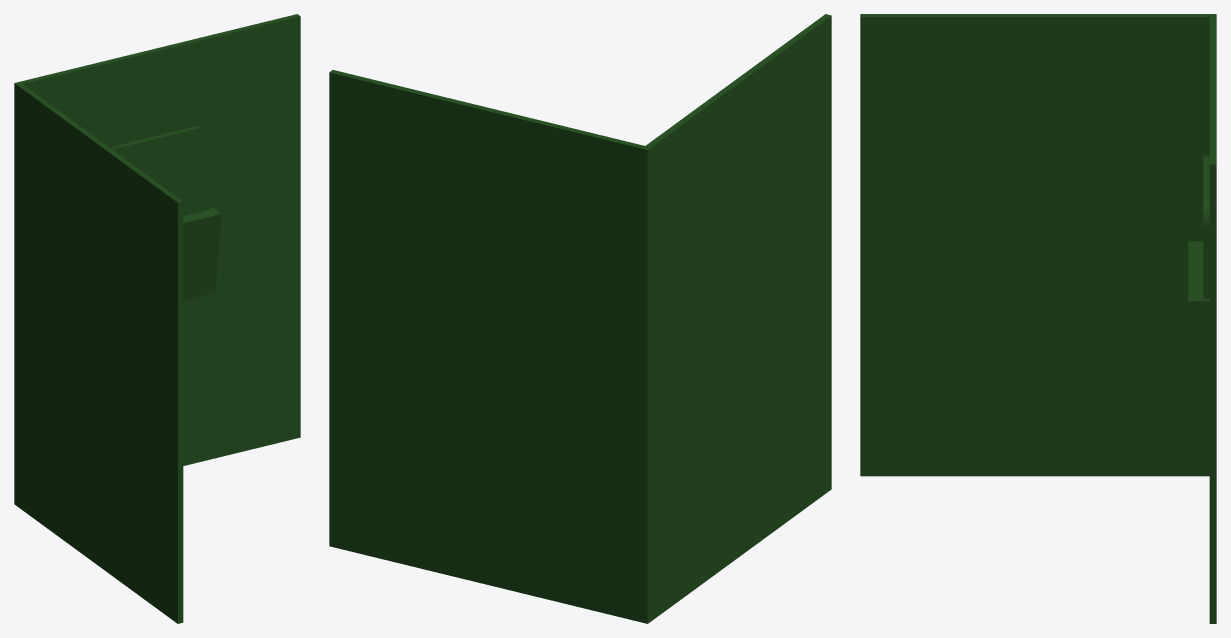
Rendered from christmasCard.fbx.
3 renders of one model, left to right at view 1: azimuth 30°, elevation 25°; view 2: azimuth 150°, elevation 25°; view 3: azimuth 270°, elevation 25°, orthographic. The views are drawn at different scales.
Parts seen in each view (by area): view 1: Cube; view 2: Cube; view 3: Cube.
Part boxes in pixels (x1,y1,x2,y2): Cube: [14, 14, 300, 623]; Cube: [329, 14, 831, 623]; Cube: [860, 14, 1216, 623].
Size of the model in its own units: 403 by 573 by 403.
